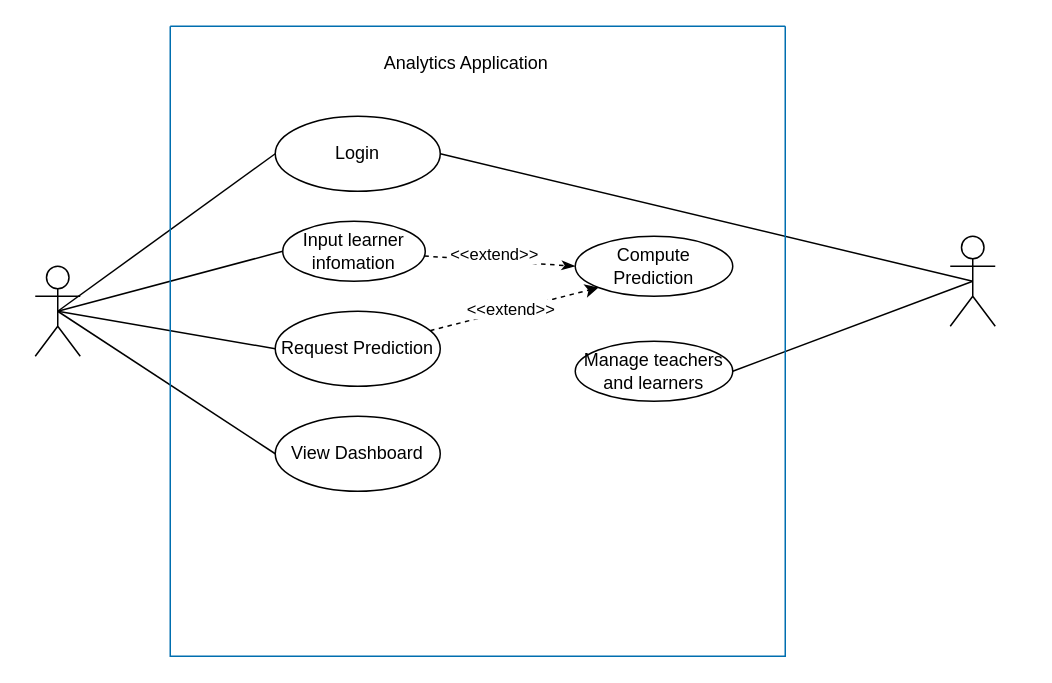
Some shapes in this 1052 by 683 pixel diagram are drawn without their labels. The centre of each missing label's shape, as x and y in pixels:
"Administrator" belongs at point (972, 280).
"Teacher" belongs at point (57, 310).
